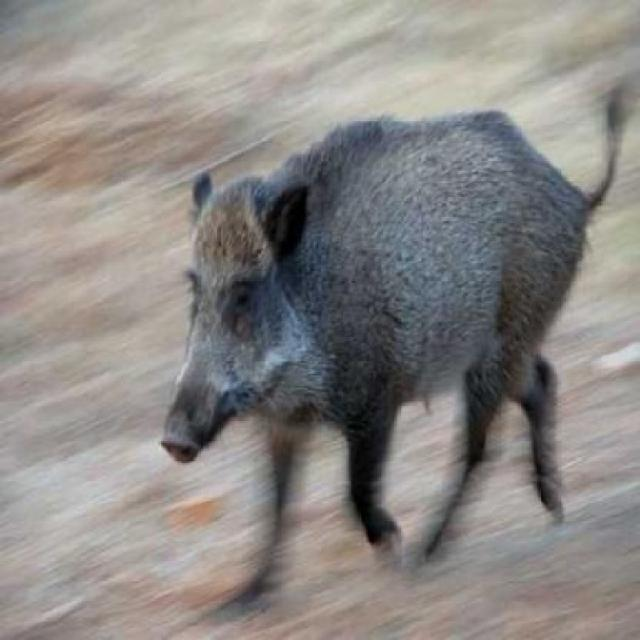pig: (102, 41, 639, 592)
